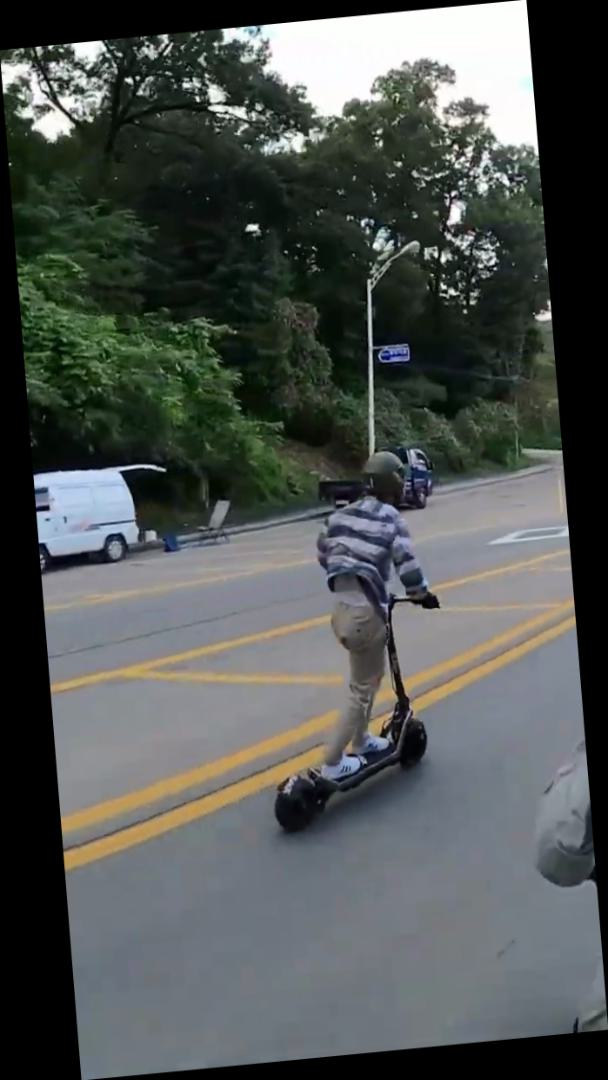helmet: (244, 442, 462, 840)
